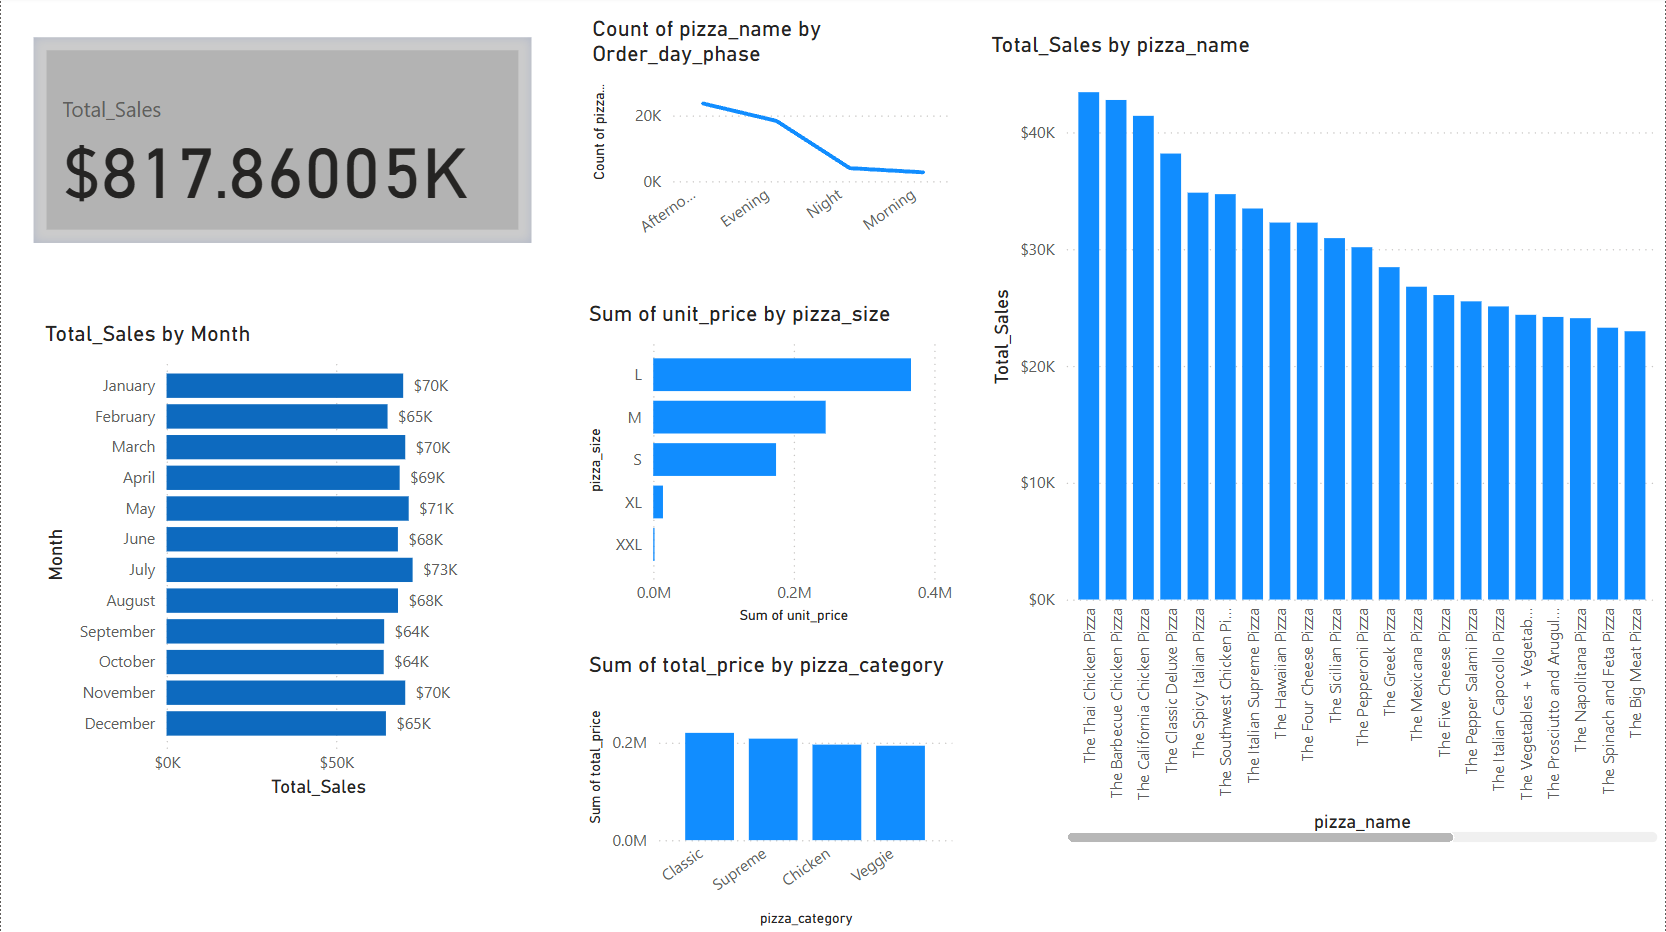

This screenshot's page, from the dashboard's own definition file:
{"tool":"powerbi","page":{"name":"Page 1","canvas":[1280,720],"ordinal":0},"visuals":[{"type":"cardVisual","fields":{"Data":["pizza_sales.Total_Spend"]},"box":[20.1,27.2,393.7,168.2],"z":0},{"type":"barChart","fields":{"Y":["pizza_sales.Total_Sales"],"Category":["pizza_sales.order_date.Variation.Date Hierarchy.Year","pizza_sales.order_date.Variation.Date Hierarchy.Quarter","pizza_sales.order_date.Variation.Date Hierarchy.Month","pizza_sales.order_date.Variation.Date Hierarchy.Day"]},"box":[29.2,248.7,351.4,372.6],"z":1000},{"type":"clusteredBarChart","fields":{"Category":["pizza_sales.pizza_size"],"Y":["Sum(pizza_sales.unit_price)"]},"box":[447.1,233.6,290,253.7],"z":2000},{"type":"lineChart","fields":{"Category":["pizza_sales.Order_day_phase"],"Y":["CountNonNull(pizza_sales.pizza_name)"]},"box":[450.1,14.1,287,181.2],"z":3000},{"type":"clusteredColumnChart","fields":{"Category":["pizza_sales.pizza_category"],"Y":["Sum(pizza_sales.total_price)"]},"box":[447.1,503.5,290,216.5],"z":4000},{"type":"columnChart","fields":{"Category":["pizza_sales.pizza_name","pizza_sales.order_date.Variation.Date Hierarchy.Year","pizza_sales.order_date.Variation.Date Hierarchy.Quarter","pizza_sales.order_date.Variation.Date Hierarchy.Month","pizza_sales.order_date.Variation.Date Hierarchy.Day"],"Y":["pizza_sales.Total_Sales"]},"box":[757.2,27.2,522.6,629.3],"z":5000}]}

Visuals, with their boxes in screenshot pixels (x1, y1, x2, y2), scaled from the page's 1280x720 canvas onto the 1666x932 screenshot:
cardVisual - pizza_sales.Total_Spend: [26,35,539,253]
barChart - pizza_sales.Total_Sales x pizza_sales.order_date.Variation.Date Hierarchy.Year: [38,322,495,804]
clusteredBarChart - pizza_sales.pizza_size x Sum(pizza_sales.unit_price): [582,302,959,631]
lineChart - pizza_sales.Order_day_phase x CountNonNull(pizza_sales.pizza_name): [586,18,959,253]
clusteredColumnChart - pizza_sales.pizza_category x Sum(pizza_sales.total_price): [582,652,959,931]
columnChart - pizza_sales.pizza_name x pizza_sales.order_date.Variation.Date Hierarchy.Year: [986,35,1665,850]
